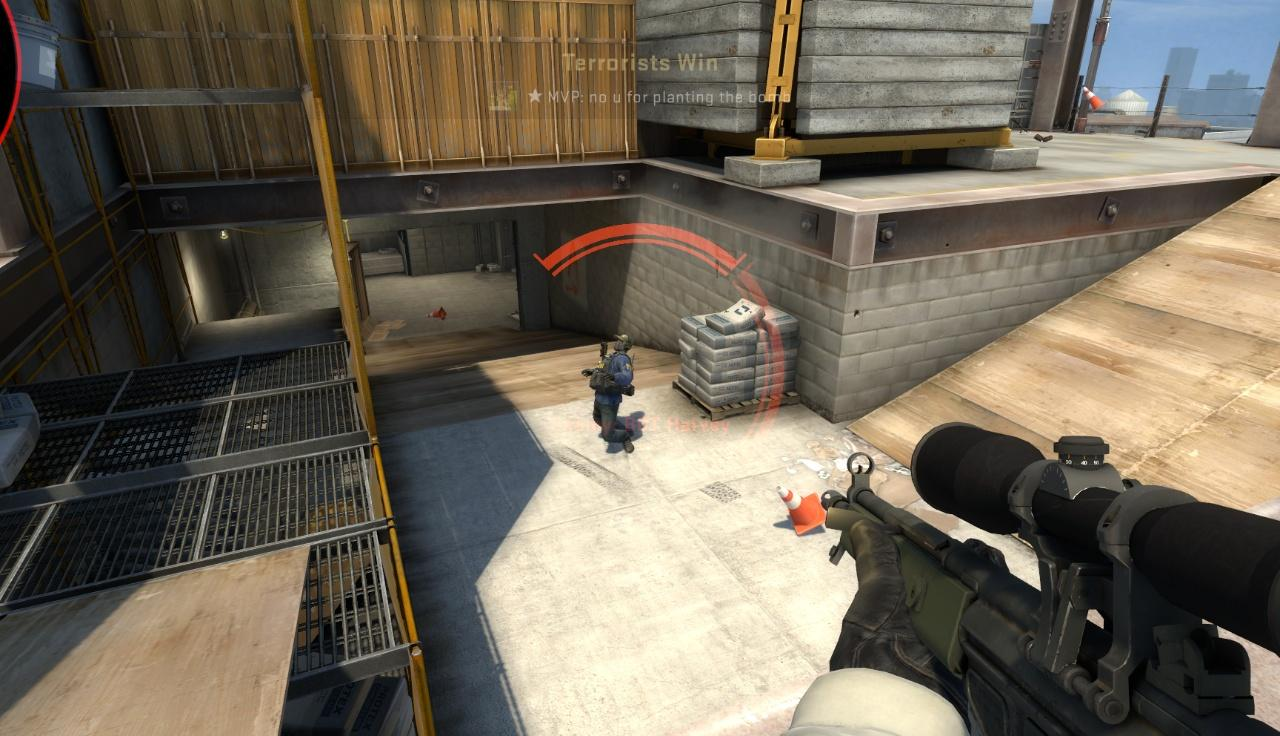ct: (583, 334, 635, 451)
cthead: (612, 333, 633, 351)
sniper: (809, 428, 1280, 736)
